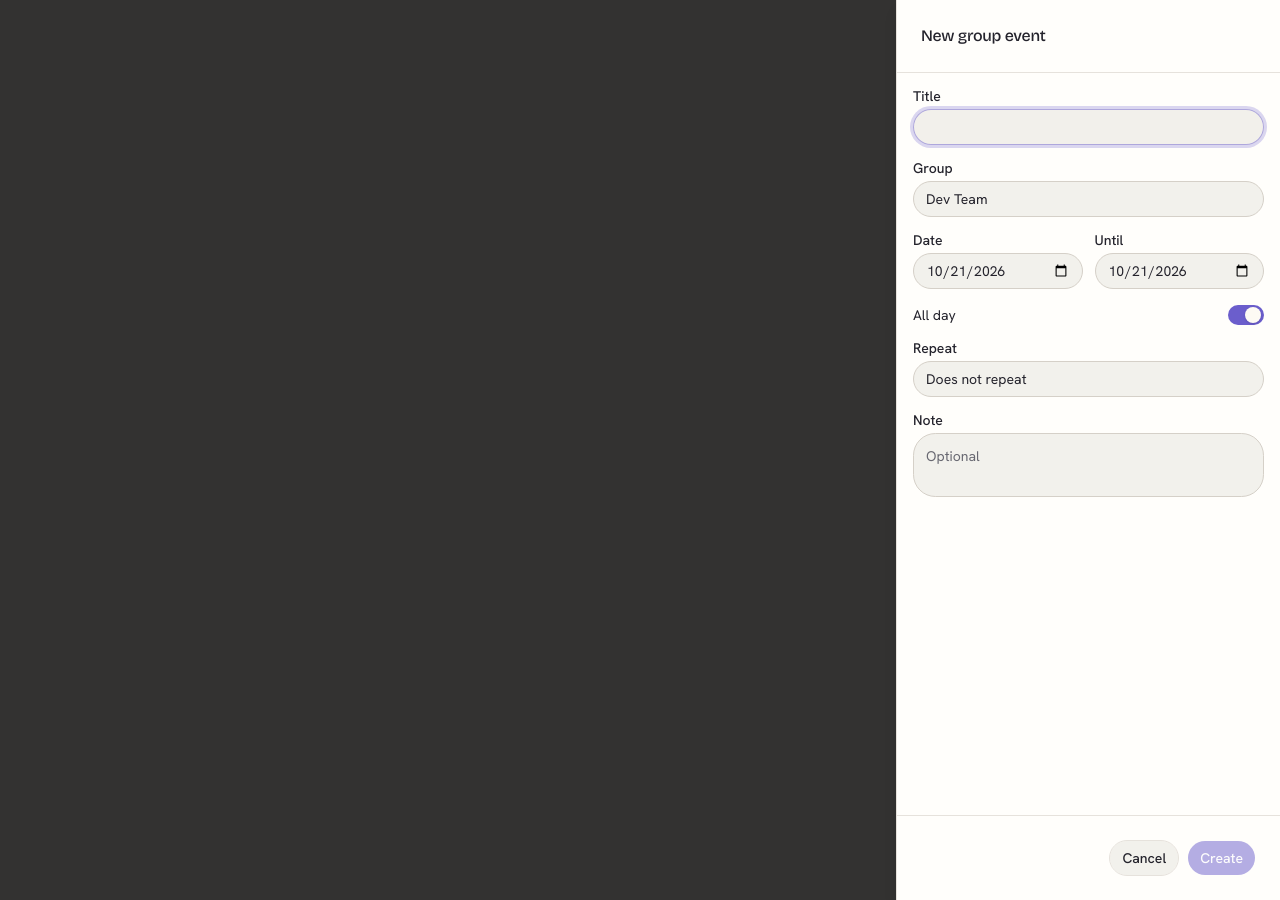
it: GroupEventSheetHost, creating › shows a plan message inline when the group lost its paid plan
The image size is (1280, 900).
In the field labelled "Title": (1088, 127) 913,109 -> 1264,145, type "Retro"
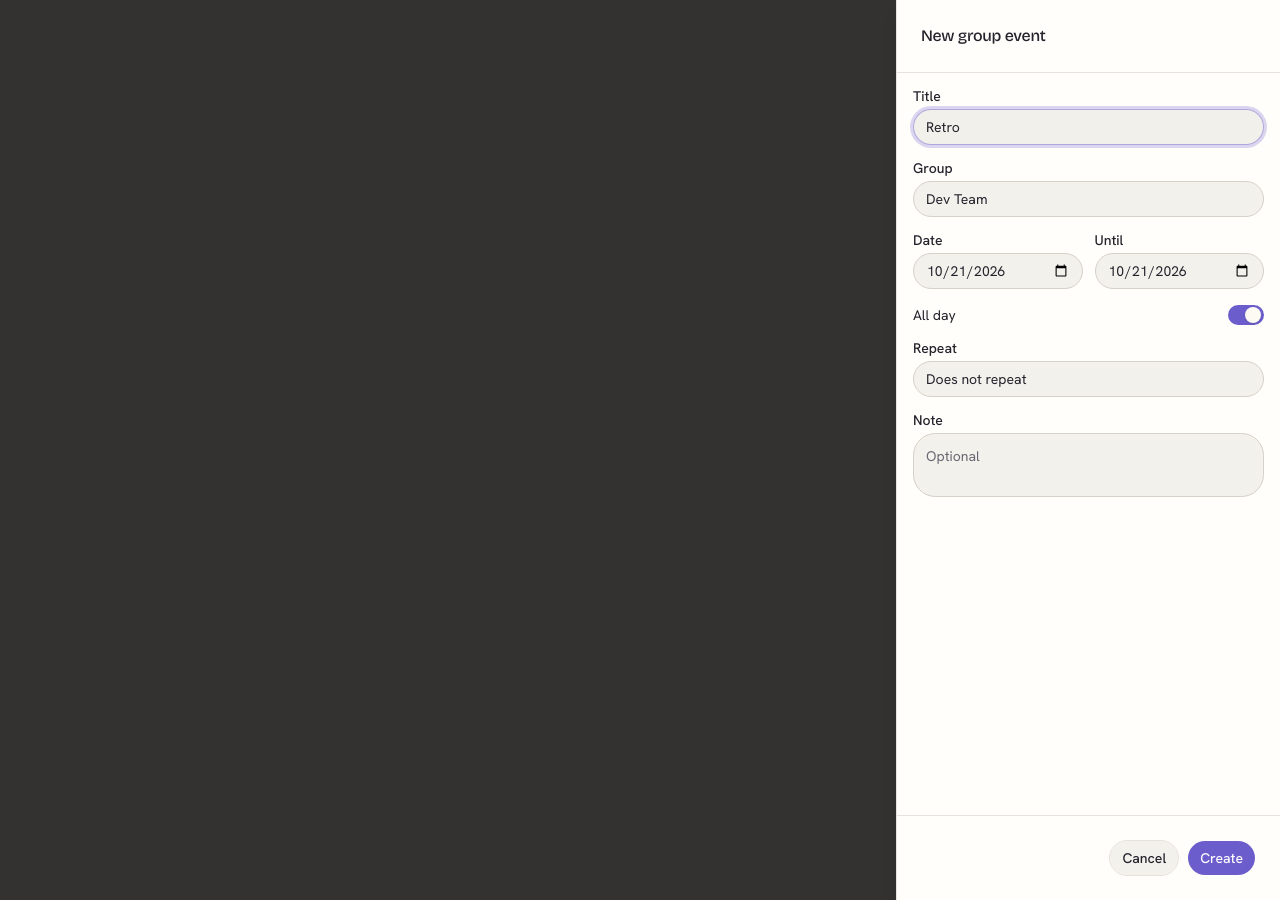
Click the button "Create": (1222, 858) 1187,840 -> 1256,876
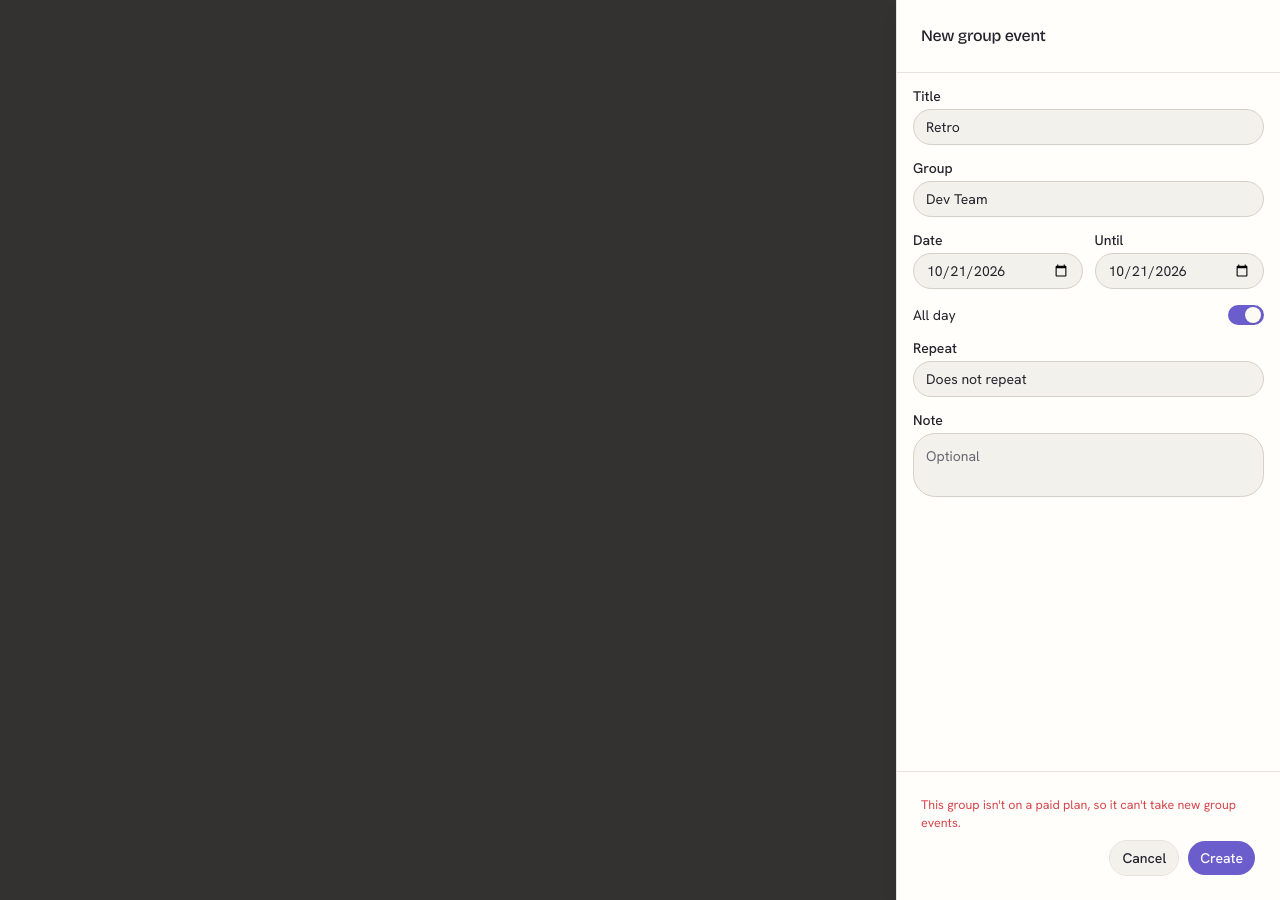
Expected: the dialog is shown, 896,0 -> 1279,899
Result: the text "This group isn't on a paid plan, so it can't take new group events." is shown at 921,796 -> 1256,832
